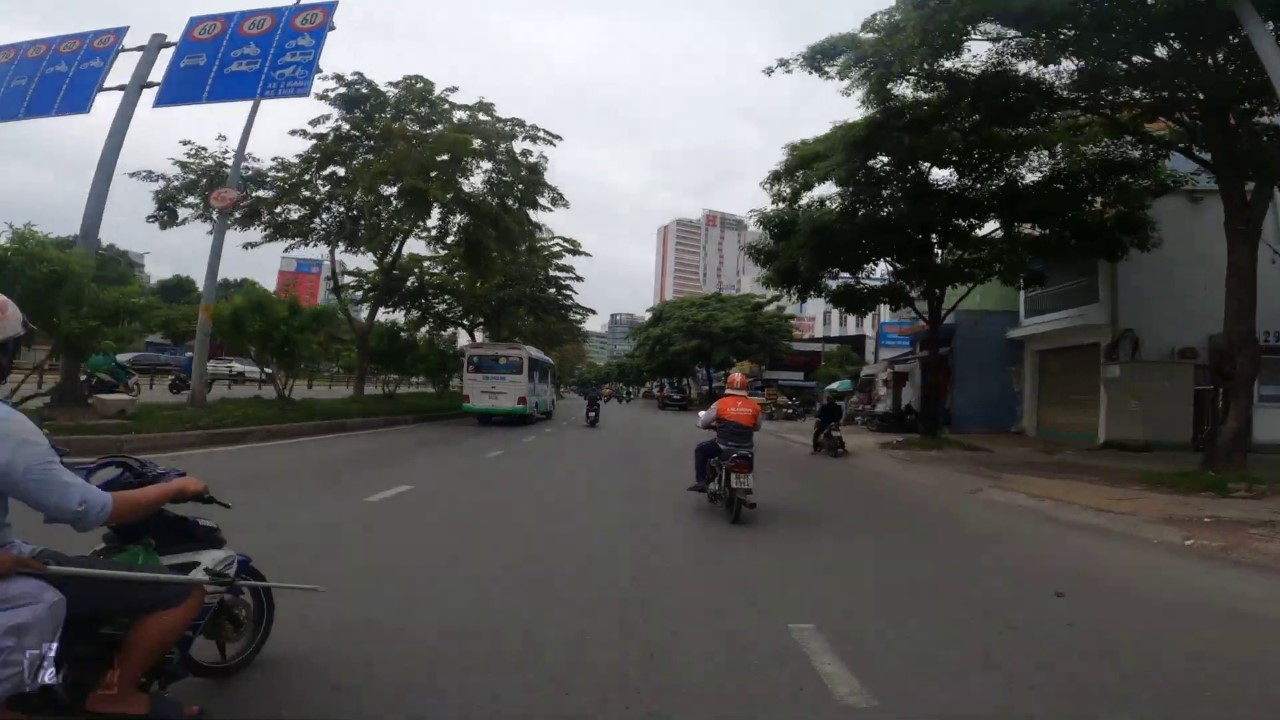gioi_han_60km: (291, 6, 329, 32), (239, 12, 277, 37), (188, 18, 227, 42), (91, 32, 119, 50), (57, 37, 84, 54)
